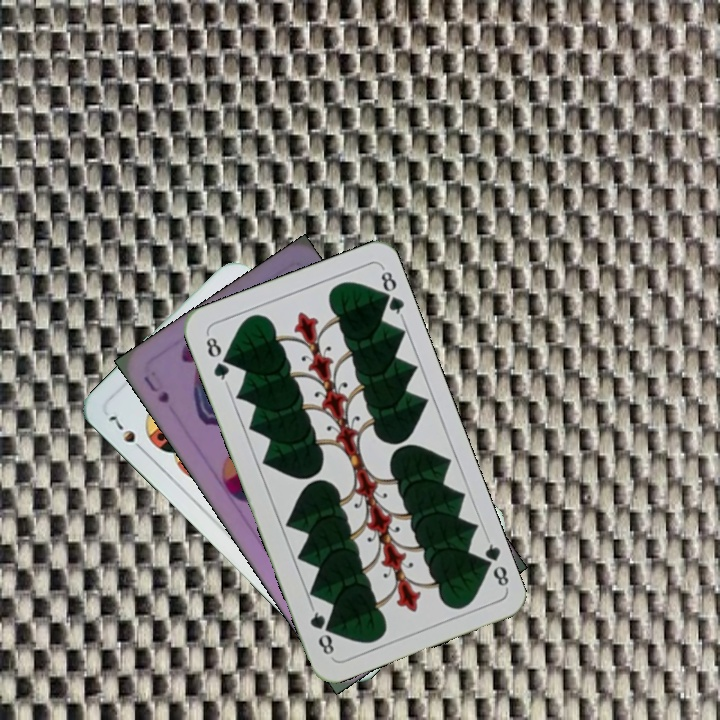G8: (475, 534, 512, 591), (201, 330, 232, 387)
S7: (104, 411, 149, 457)
SU: (139, 371, 172, 406)
